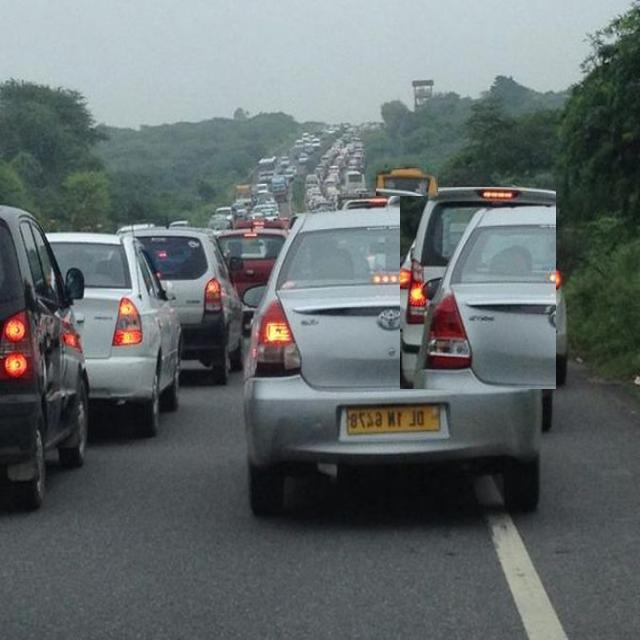bus: (376, 168, 438, 196)
car: (244, 207, 541, 514), (400, 187, 555, 389), (0, 205, 89, 510), (48, 233, 181, 436), (132, 227, 242, 384), (216, 230, 285, 295)
